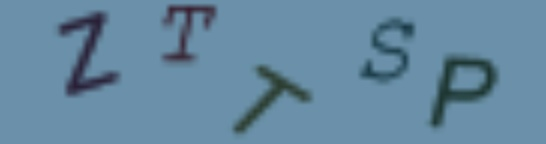P: (429, 51, 500, 131)
S: (356, 17, 420, 85)
T: (228, 61, 316, 137), (158, 1, 221, 67)
Z: (55, 7, 122, 98)
